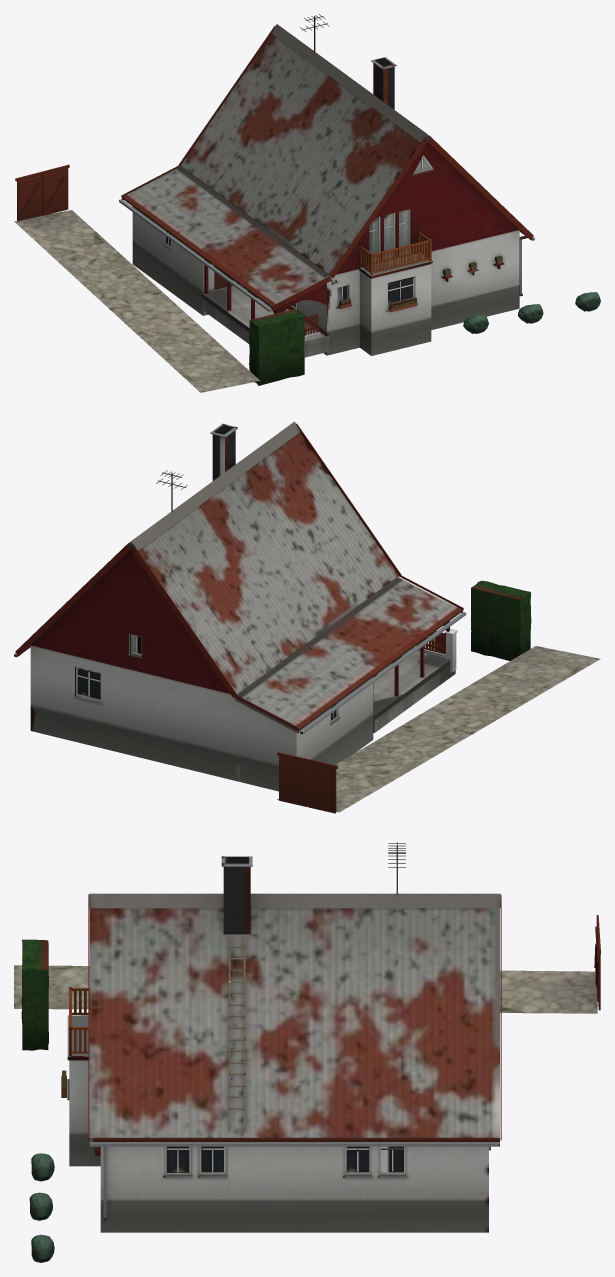
The model's file is house5a.glb.
3 renders of one model, top to bottom at view 1: azimuth 30°, elevation 25°; view 2: azimuth 150°, elevation 25°; view 3: azimuth 270°, elevation 25°, orthographic. The views are drawn at different scales.
Parts seen in each view (by area): view 1: house, drive, g_hedge, g_gdoor; view 2: house, drive, g_hedge, g_gdoor; view 3: house, drive, g_hedge, g_jun1, g_jun3, g_jun2.
Boxes of the visible parts, bbox=[...] form: house: bbox=[119, 14, 534, 357]; drive: bbox=[14, 210, 260, 392]; g_hedge: bbox=[249, 309, 304, 385]; g_gdoor: bbox=[15, 164, 69, 220]; house: bbox=[14, 421, 466, 791]; drive: bbox=[277, 646, 600, 812]; g_hedge: bbox=[471, 580, 531, 660]; g_gdoor: bbox=[277, 752, 337, 813]; house: bbox=[61, 842, 501, 1232]; drive: bbox=[14, 965, 597, 1013]; g_hedge: bbox=[21, 939, 48, 1050]; g_jun1: bbox=[31, 1153, 54, 1181]; g_jun3: bbox=[31, 1234, 54, 1262]; g_jun2: bbox=[29, 1192, 52, 1220].
Bounding box in the file's own units: 20.49 × 11.29 × 18.61.
2 materials, 2 textured.
